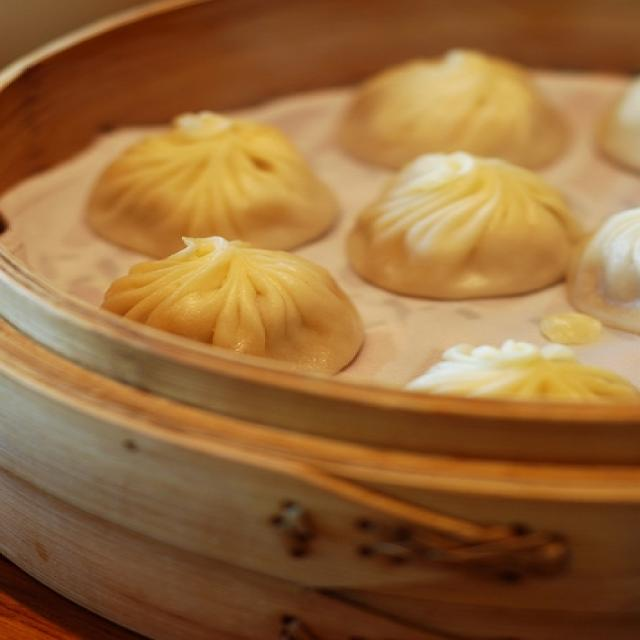带馅早点: (86, 42, 636, 407)
